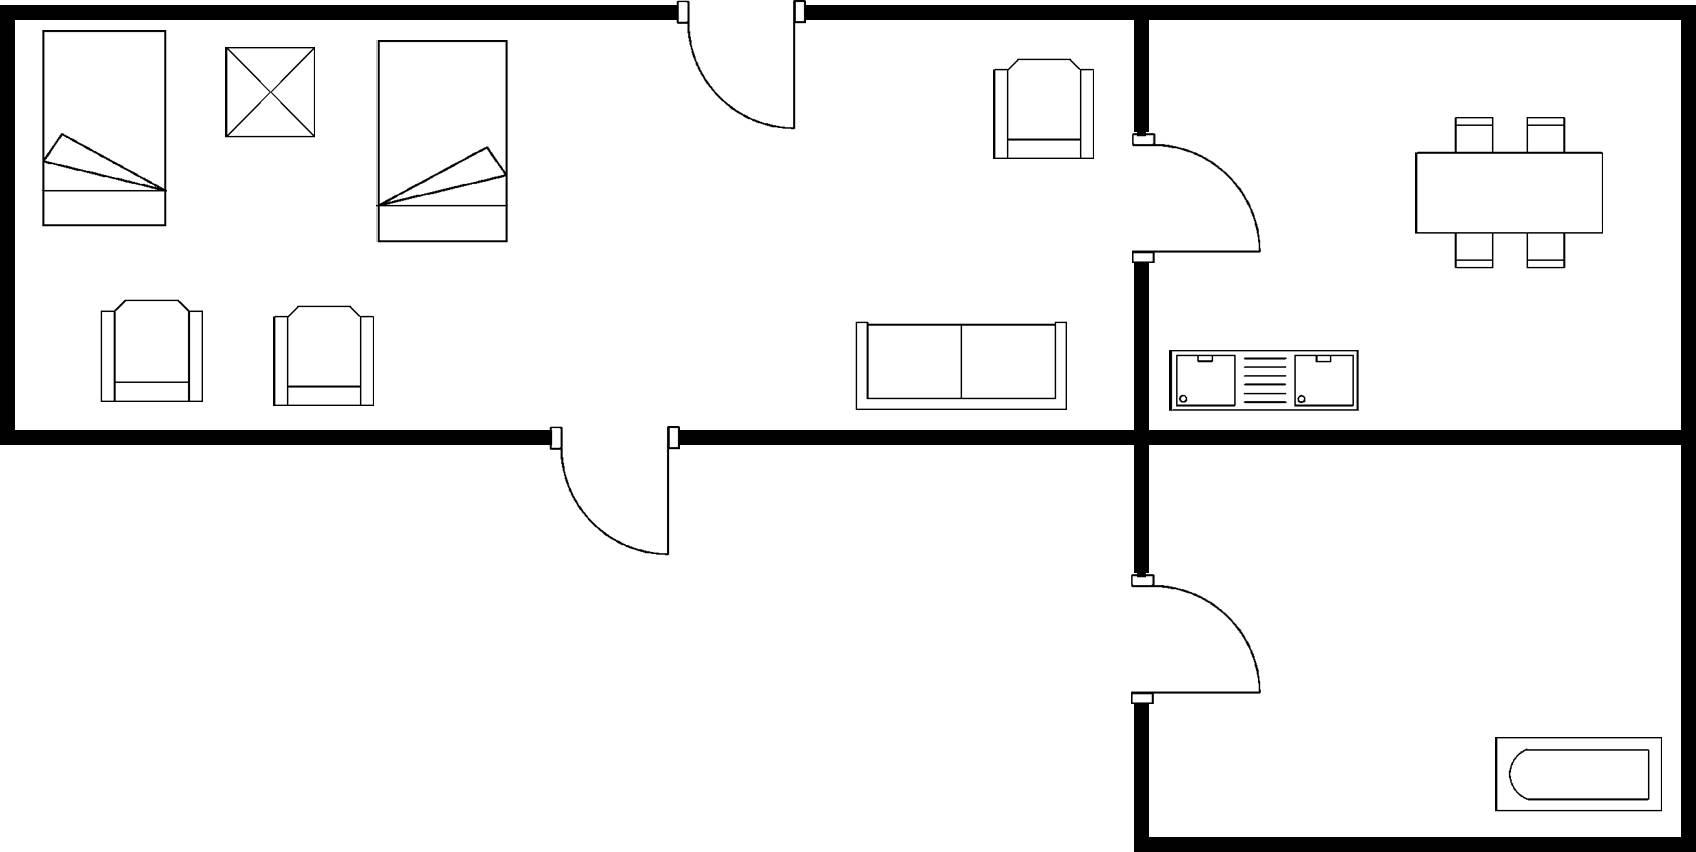sink: (1161, 342, 1368, 416)
